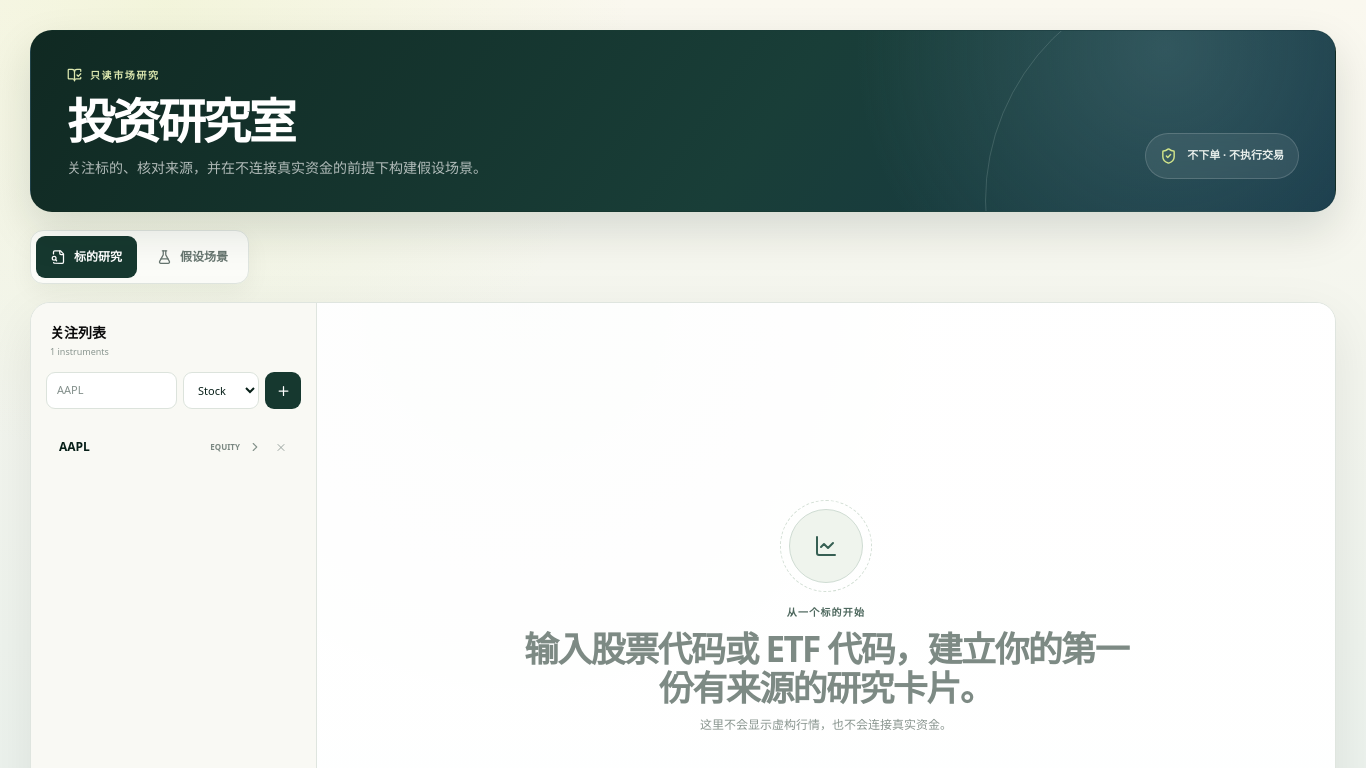
it: InvestmentResearchPage › renders insufficient history as unavailable rather than zero
Click the text "AAPL".
click(74, 447)  # box [59, 438, 90, 455]
(page scrolled)
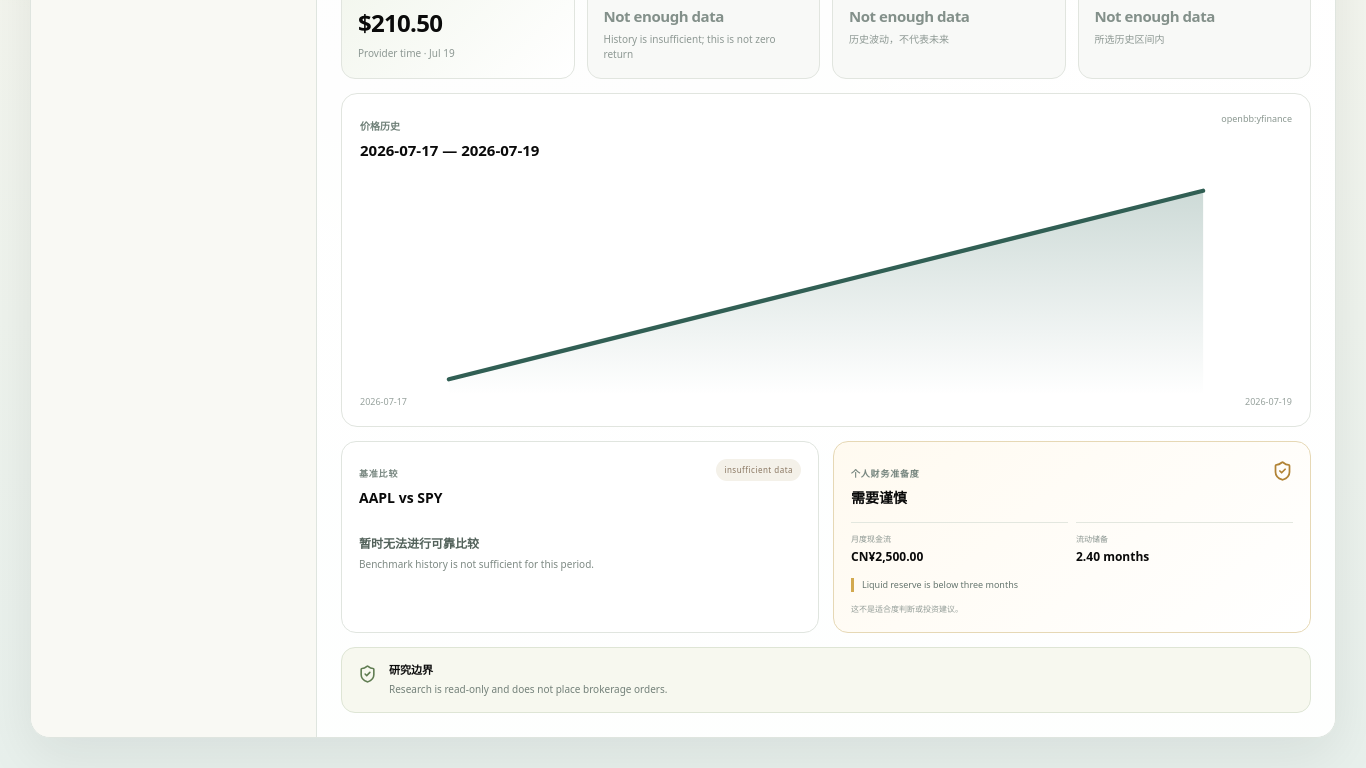
Now the text "Not enough data" is shown 3 times, box [604, 6, 724, 26]; [849, 6, 969, 26]; [1094, 6, 1215, 26]
Now the text "暂时无法进行可靠比较" is shown, box [359, 535, 479, 552]
